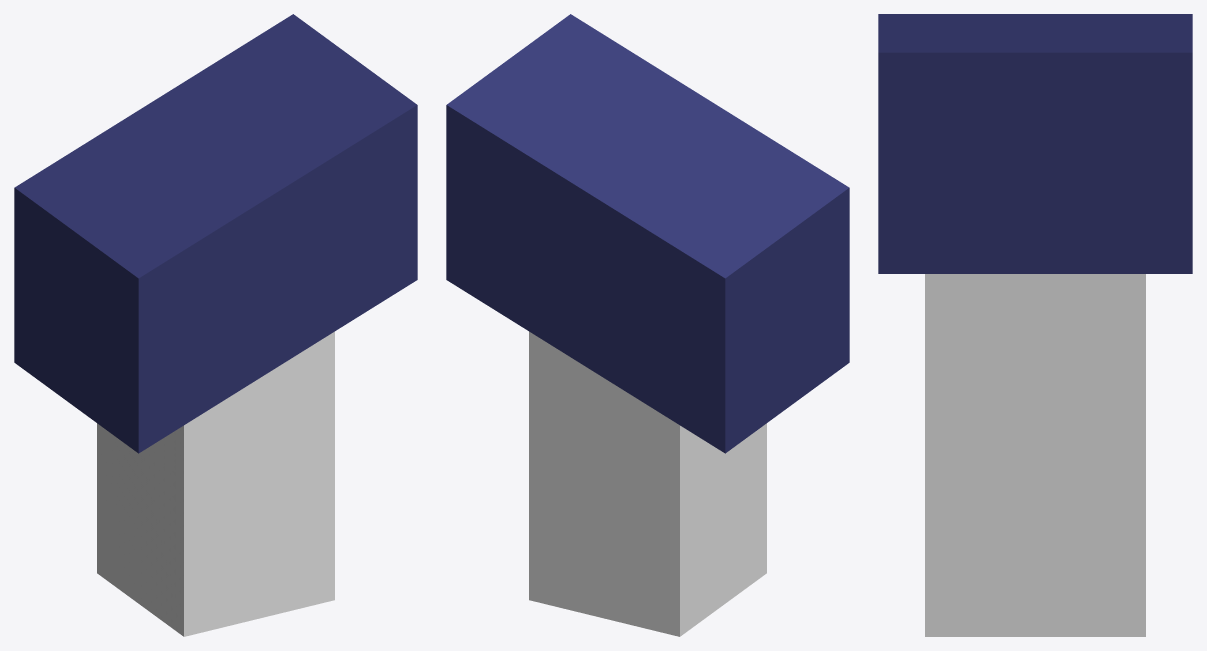
Rendered from PilotMechUpperArmRight.gltf.
3 renders of one model, left to right at view 1: azimuth 30°, elevation 25°; view 2: azimuth 150°, elevation 25°; view 3: azimuth 270°, elevation 25°, orthographic. The views are drawn at different scales.
Visible parts, largest first — view 1: 立方体.013; view 2: 立方体.013; view 3: 立方体.013.
Part boxes in pixels (x1,y1,x2,y2): 立方体.013: (14,14,417,636); 立方体.013: (446,14,849,636); 立方体.013: (878,14,1192,636).
Size of the model in its own units: 0.7382 by 1.25 by 0.5693.
